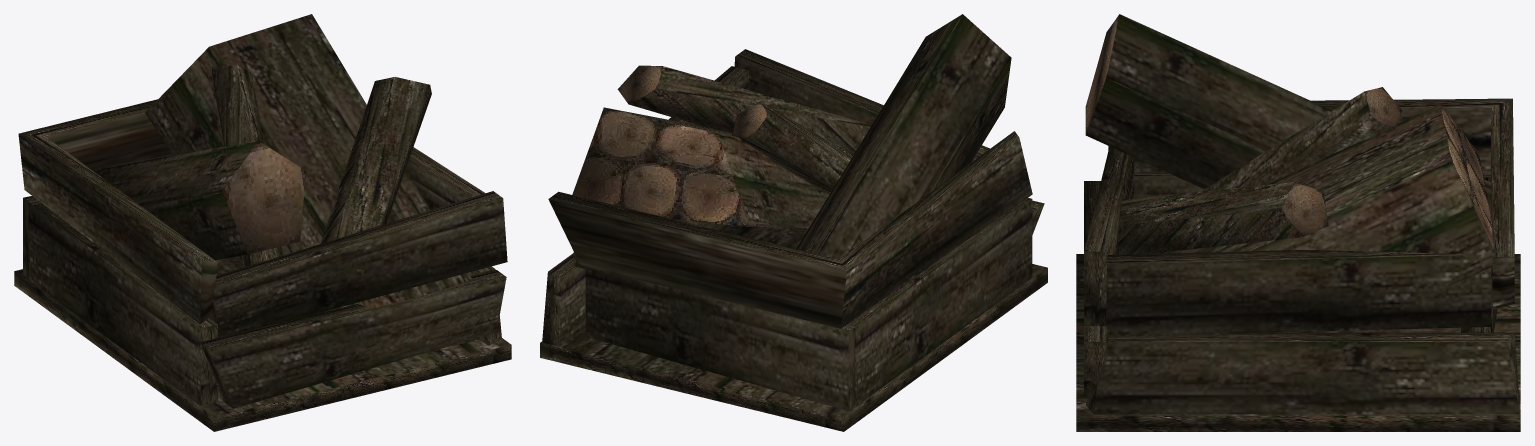
Rendered from OC_FIREWOOD_V2.glb.
3 renders of one model, left to right at view 1: azimuth 30°, elevation 25°; view 2: azimuth 150°, elevation 25°; view 3: azimuth 270°, elevation 25°, orthographic. The views are drawn at different scales.
Visible parts, largest first — view 1: Mesh; view 2: Mesh; view 3: Mesh.
Boxes of the visible parts, x1=… form: Mesh: x1=14, y1=14, x2=511, y2=431; Mesh: x1=540, y1=14, x2=1047, y2=431; Mesh: x1=1076, y1=14, x2=1520, y2=431.
Bounding box in the file's own units: 0.9267 × 0.7243 × 1.
Materials: 2 (2 with a texture image).
